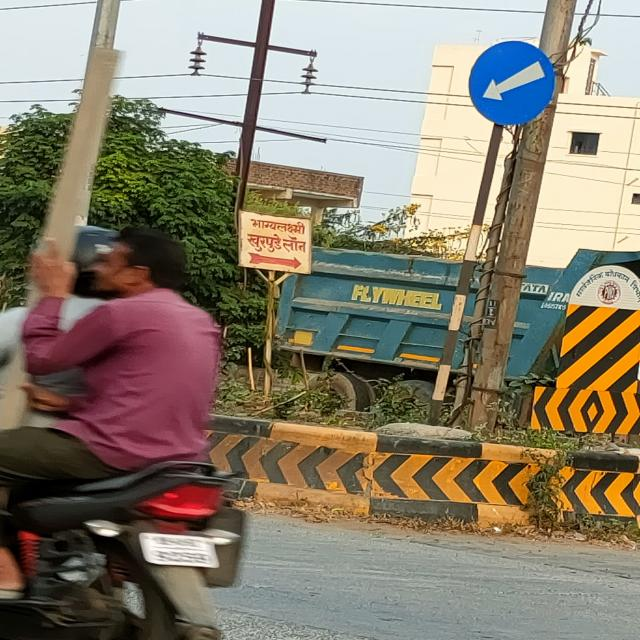COMPULSARY_KEEP_LEFT: (464, 37, 562, 137)
